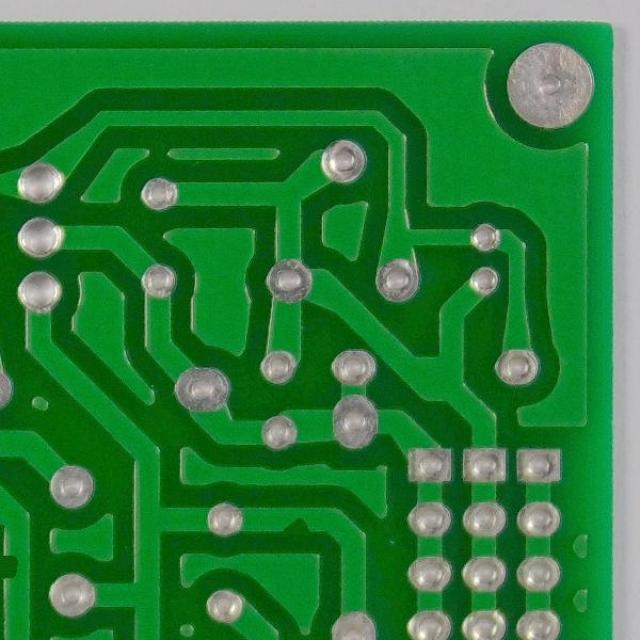mouse_bite: (267, 499, 318, 540), (1, 548, 34, 588)
